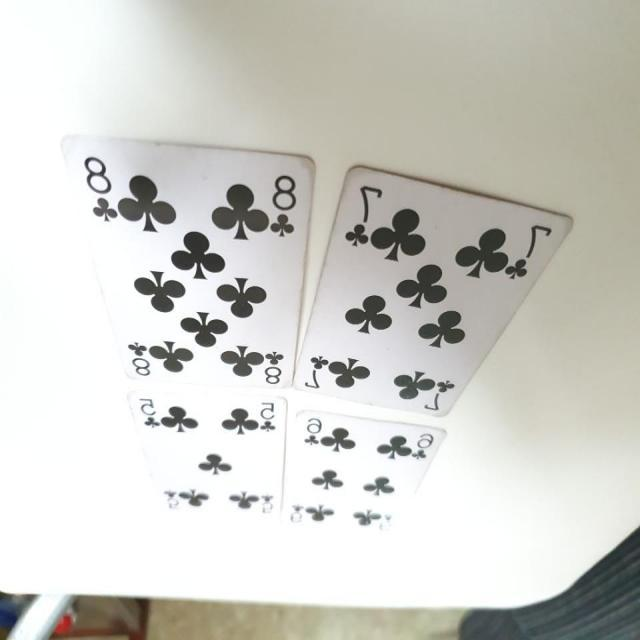5 of clubs: (125, 388, 288, 532)
6 of clubs: (282, 411, 447, 550)
7 of clubs: (292, 166, 577, 420)
8 of clubs: (58, 135, 319, 390)
